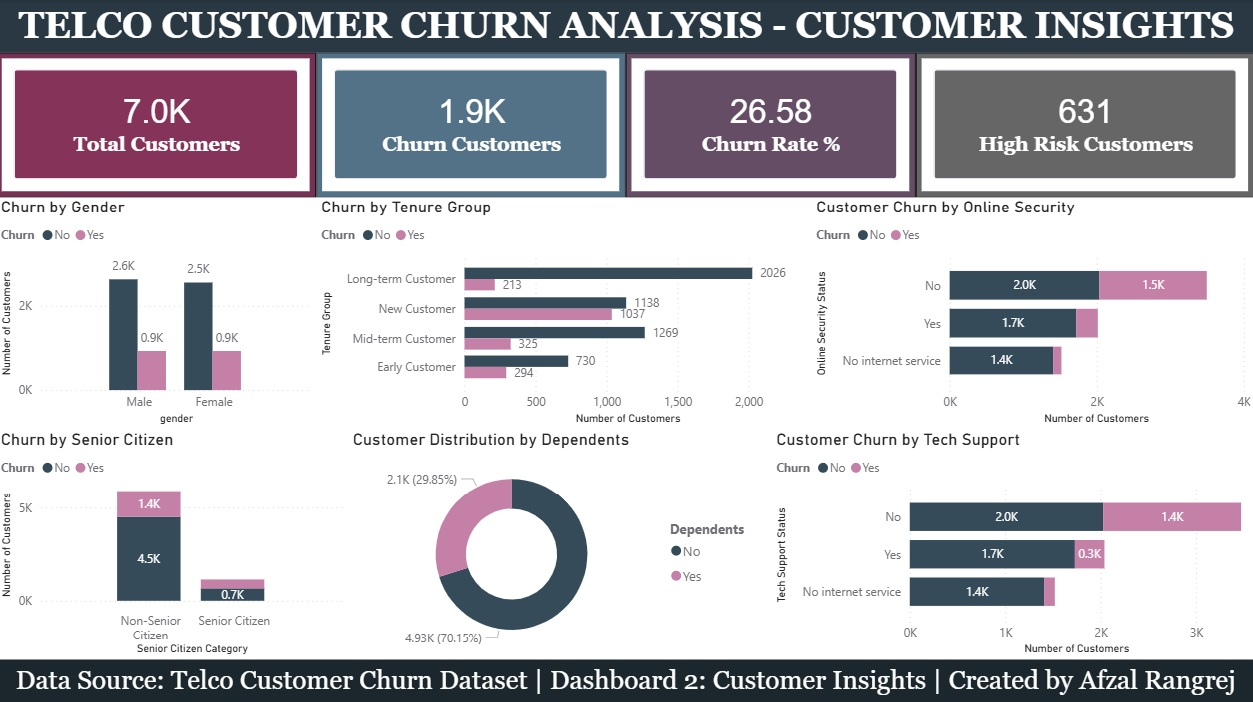

This screenshot's page, from the dashboard's own definition file:
{"tool":"powerbi","page":{"name":"Page 2","canvas":[1280,720],"ordinal":1},"visuals":[{"type":"cardVisual","fields":{"Data":["Telco_Customer_churn_feature_engineered.Total Customers"]},"box":[0,54.5,325.4,148],"z":0},{"type":"cardVisual","fields":{"Data":["Telco_Customer_churn_feature_engineered.Churn Customers"]},"box":[325.4,54.5,314.2,148],"z":1000},{"type":"cardVisual","fields":{"Data":["Telco_Customer_churn_feature_engineered.Churn Rate %"]},"box":[639.7,54.5,294.7,148],"z":2000},{"type":"cardVisual","fields":{"Data":["Telco_Customer_churn_feature_engineered.High Risk Customers"]},"box":[934.3,54.5,345,148],"z":3000},{"type":"clusteredColumnChart","title":"Churn by Gender","fields":{"Category":["Telco_Customer_churn_feature_engineered.gender"],"Y":["CountNonNull(Telco_Customer_churn_feature_engineered.customerID)"],"Series":["Telco_Customer_churn_feature_engineered.Churn"]},"box":[0,202.5,325.4,237.4],"z":4000},{"type":"columnChart","title":"Churn by Senior Citizen","fields":{"Y":["CountNonNull(Telco_Customer_churn_feature_engineered.customerID)"],"Series":["Telco_Customer_churn_feature_engineered.Churn"],"Category":["Telco_Customer_churn_feature_engineered.Senior Citizen Category"]},"box":[0,439.9,357.5,236],"z":5000},{"type":"clusteredBarChart","title":"Churn by Tenure Group","fields":{"Category":["Telco_Customer_churn_feature_engineered.Tenure_Group"],"Y":["CountNonNull(Telco_Customer_churn_feature_engineered.customerID)"],"Series":["Telco_Customer_churn_feature_engineered.Churn"]},"box":[325.4,202.5,502.8,237.4],"z":6000},{"type":"donutChart","title":"Customer Distribution by Dependents","fields":{"Category":["Telco_Customer_churn_feature_engineered.Dependents"],"Y":["CountNonNull(Telco_Customer_churn_feature_engineered.customerID)"]},"box":[357.5,439.9,426,236],"z":7000},{"type":"barChart","title":"Customer Churn by Online Security","fields":{"Category":["Telco_Customer_churn_feature_engineered.OnlineSecurity"],"Y":["CountNonNull(Telco_Customer_churn_feature_engineered.customerID)"],"Series":["Telco_Customer_churn_feature_engineered.Churn"]},"box":[828.2,202.5,451.1,237.4],"z":8000},{"type":"barChart","title":"Customer Churn by Tech Support","fields":{"Category":["Telco_Customer_churn_feature_engineered.TechSupport"],"Y":["CountNonNull(Telco_Customer_churn_feature_engineered.customerID)"],"Series":["Telco_Customer_churn_feature_engineered.Churn"]},"box":[787.7,439.9,491.6,236],"z":9000},{"type":"textbox","box":[0,0,1280.7,54.5],"z":10000},{"type":"textbox","box":[0,676,1279.3,44.7],"z":11000}]}

Visuals, with their boxes in screenshot pixels (x1, y1, x2, y2), scaled from the page's 1280x720 canvas onto the 1253x702 screenshot:
cardVisual - Telco_Customer_churn_feature_engineered.Total Customers: region(0, 53, 319, 197)
cardVisual - Telco_Customer_churn_feature_engineered.Churn Customers: region(319, 53, 626, 197)
cardVisual - Telco_Customer_churn_feature_engineered.Churn Rate %: region(626, 53, 915, 197)
cardVisual - Telco_Customer_churn_feature_engineered.High Risk Customers: region(915, 53, 1252, 197)
"Churn by Gender" clusteredColumnChart: region(0, 197, 319, 429)
"Churn by Senior Citizen" columnChart: region(0, 429, 350, 659)
"Churn by Tenure Group" clusteredBarChart: region(319, 197, 811, 429)
"Customer Distribution by Dependents" donutChart: region(350, 429, 767, 659)
"Customer Churn by Online Security" barChart: region(811, 197, 1252, 429)
"Customer Churn by Tech Support" barChart: region(771, 429, 1252, 659)
textbox: region(0, 0, 1252, 53)
textbox: region(0, 659, 1252, 701)
